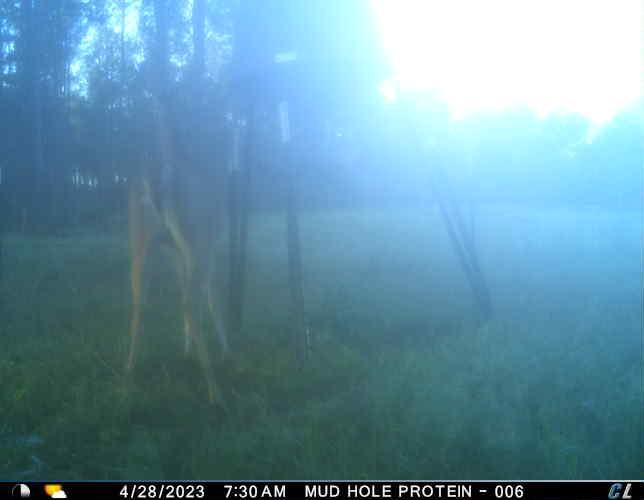Deer: (122, 138, 236, 413)
